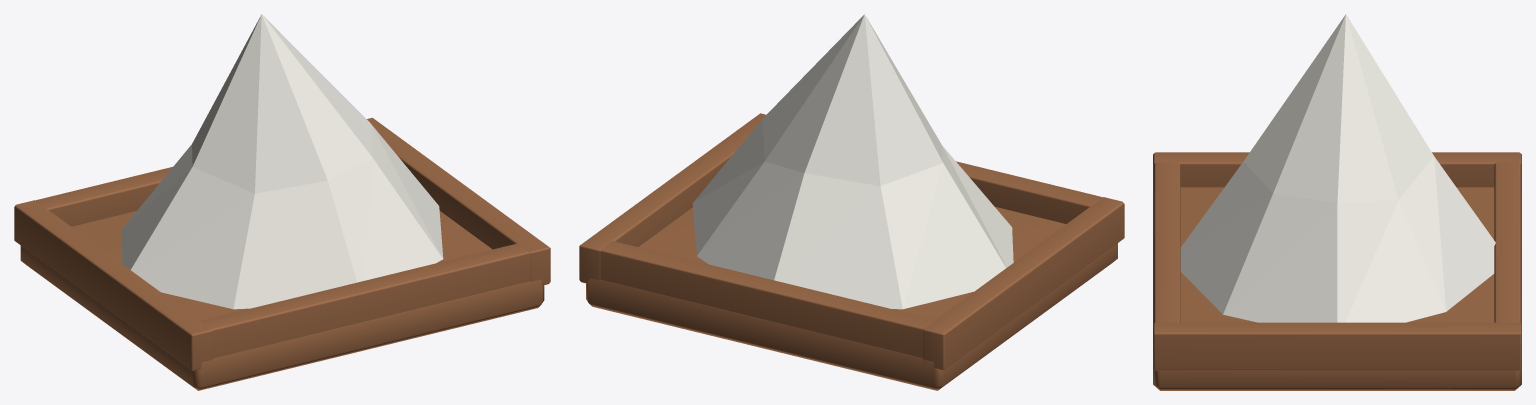
The model's file is salt.glb.
The picture shows the model from 3 angles, left to right: view 1: azimuth 30°, elevation 25°; view 2: azimuth 150°, elevation 25°; view 3: azimuth 270°, elevation 25°; orthographic projection. The views are drawn at different scales.
Visible parts, largest first — view 1: salt; view 2: salt; view 3: salt.
Boxes of the visible parts, <box> form: salt: <box>14,14,550,390</box>; salt: <box>579,14,1124,390</box>; salt: <box>1153,14,1521,390</box>.
Bounding box in the file's own units: 1.51 × 1.1 × 1.3.
